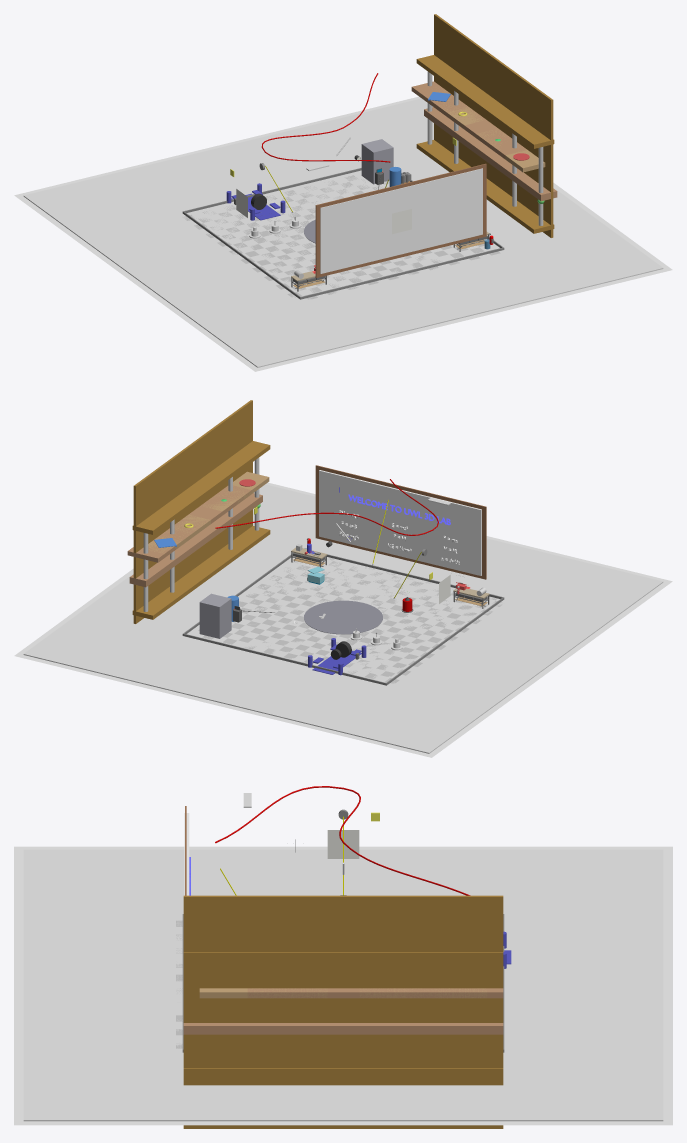
File: lab.glb
The picture shows the model from 3 angles, top to bottom: view 1: azimuth 30°, elevation 25°; view 2: azimuth 150°, elevation 25°; view 3: azimuth 270°, elevation 25°; orthographic projection. The views are drawn at different scales.
Visible parts, largest first — view 1: Tiled_Floor.001, Whiteboard, Creative_Shelf_Back, Floor_Tiles, Creative_Shelf_Top, Whiteboard_Frame, Creative_Shelf_Base, Shelf_Base, Tool_Cabinet, Shelf_Level_2, Shelf_Level_4, Shelf_Level_3 (+1 smaller); view 2: Tiled_Floor.001, Whiteboard, Creative_Shelf_Back, Floor_Tiles, Creative_Shelf_Top, Creative_Shelf_Base, Engine_Stand, Shelf_Base, Whiteboard_Frame, Tool_Cabinet, Shelf_Level_2, Shelf_Level_3 (+3 smaller); view 3: Tiled_Floor.001, Creative_Shelf_Back, Floor_Tiles, Shelf_Base, Creative_Shelf_Base, Creative_Shelf_Top, Shelf_Level_2, Shelf_Level_3, Left_Wall, Shelf_Level_4, Main_Air_Line, Creative_Shelf_Level_1.
Part boxes in pixels (bbox=[...]): Tiled_Floor.001: bbox=[23, 98, 663, 367]; Whiteboard: bbox=[320, 168, 482, 273]; Creative_Shelf_Back: bbox=[434, 14, 553, 237]; Floor_Tiles: bbox=[14, 96, 672, 371]; Creative_Shelf_Top: bbox=[416, 55, 554, 148]; Whiteboard_Frame: bbox=[315, 163, 486, 277]; Creative_Shelf_Base: bbox=[416, 140, 554, 233]; Shelf_Base: bbox=[424, 107, 557, 201]; Tool_Cabinet: bbox=[361, 139, 393, 184]; Shelf_Level_2: bbox=[470, 124, 527, 158]; Shelf_Level_4: bbox=[411, 81, 468, 116]; Shelf_Level_3: bbox=[435, 99, 491, 133]; Tiled_Floor.001: bbox=[23, 484, 663, 753]; Whiteboard: bbox=[319, 470, 481, 575]; Creative_Shelf_Back: bbox=[133, 400, 252, 623]; Floor_Tiles: bbox=[14, 482, 672, 757]; Creative_Shelf_Top: bbox=[132, 441, 270, 534]; Creative_Shelf_Base: bbox=[132, 526, 270, 619]; Engine_Stand: bbox=[304, 600, 382, 634]; Shelf_Base: bbox=[129, 493, 262, 587]; Whiteboard_Frame: bbox=[315, 465, 486, 579]; Tool_Cabinet: bbox=[199, 593, 231, 638]; Shelf_Level_2: bbox=[195, 485, 251, 519]; Shelf_Level_3: bbox=[160, 510, 216, 541]; Tiled_Floor.001: bbox=[23, 849, 663, 1121]; Creative_Shelf_Back: bbox=[183, 895, 503, 1128]; Floor_Tiles: bbox=[14, 846, 672, 1125]; Shelf_Base: bbox=[183, 1023, 503, 1034]; Creative_Shelf_Base: bbox=[183, 1068, 503, 1074]; Creative_Shelf_Top: bbox=[183, 952, 503, 958]; Shelf_Level_2: bbox=[247, 988, 343, 998]; Shelf_Level_3: bbox=[343, 988, 439, 998]; Left_Wall: bbox=[327, 830, 359, 858]; Shelf_Level_4: bbox=[407, 988, 503, 998]; Main_Air_Line: bbox=[215, 786, 470, 895]; Creative_Shelf_Level_1: bbox=[199, 988, 263, 998].
Bounding box in the file's own units: 41.19 × 16 × 41.19.
